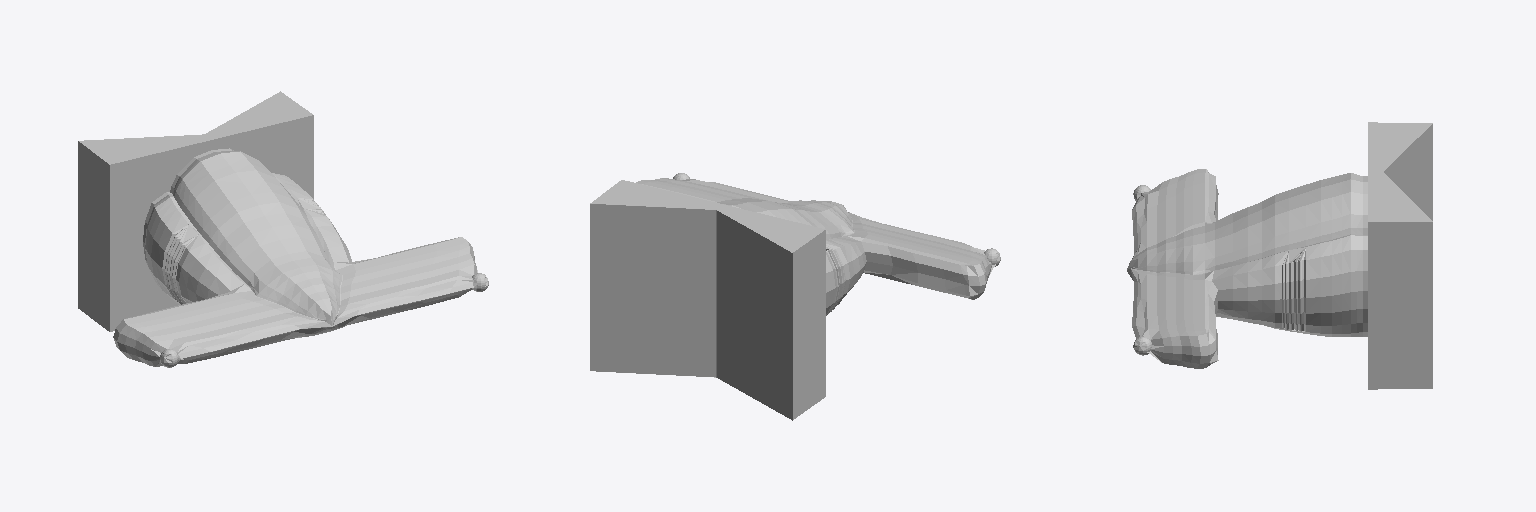
The model's file is hammerhead_shark.obj.
The picture shows the model from 3 angles: view 1: azimuth 30°, elevation 25°; view 2: azimuth 150°, elevation 25°; view 3: azimuth 270°, elevation 25°; orthographic projection.
Visible parts, largest first — view 1: pCube3; view 2: pCube3; view 3: pCube3.
Boxes of the visible parts, box(x1,y1,x2,y2) form: pCube3: box(78, 91, 488, 367); pCube3: box(590, 173, 1000, 420); pCube3: box(1127, 122, 1432, 389).
Size of the model in its own units: 28.89 by 12.96 by 21.51.